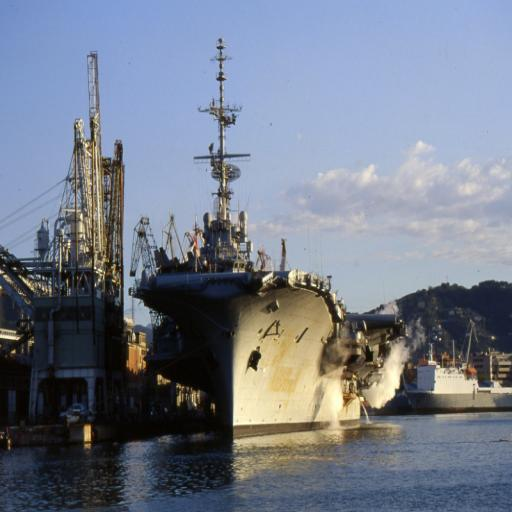Portanaves: (130, 36, 387, 450)
